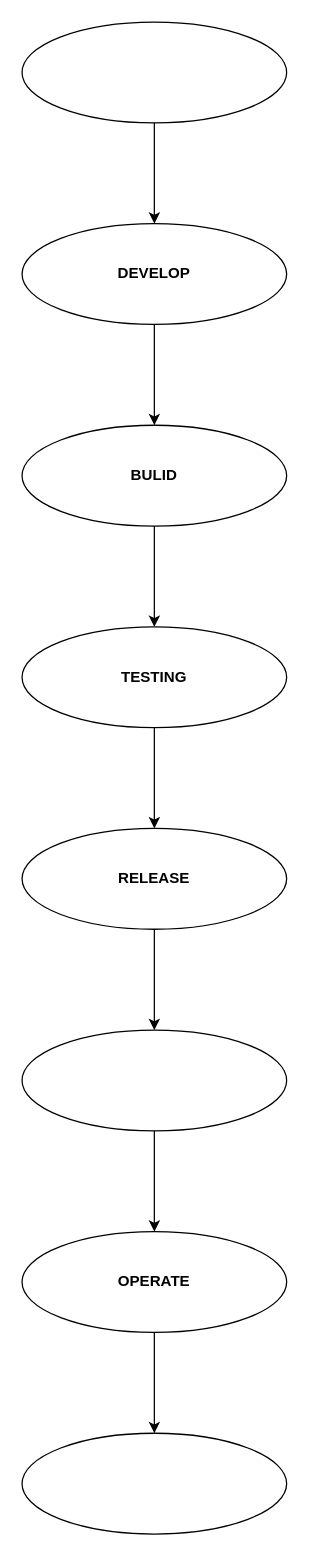
The diagram is 309 pixels wide and 1556 high, and some of its shapes have lost their labels. Each missing label, with the centre of its shape:
"DEPLOY" goes at (x=154, y=1080).
"MONITOR" goes at (x=154, y=1483).
"PLAN" goes at (x=154, y=72).
